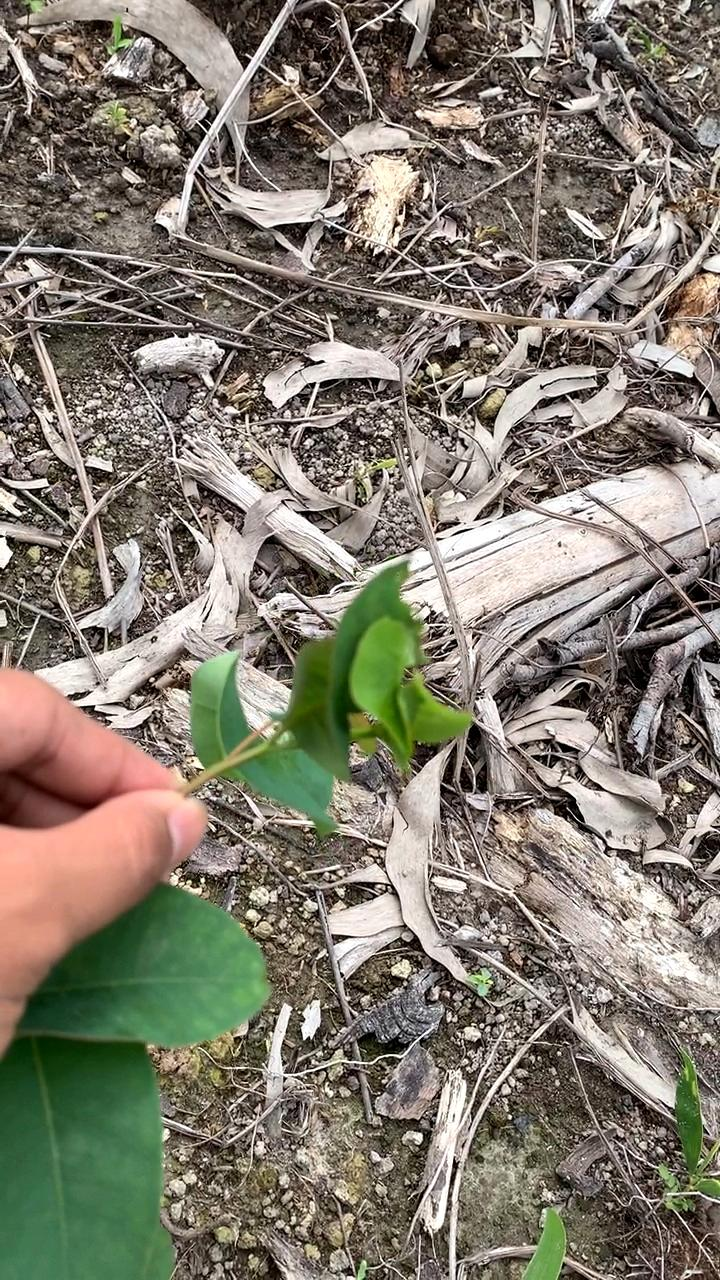Leaf Roller - Leaf: (278, 588, 475, 783)
